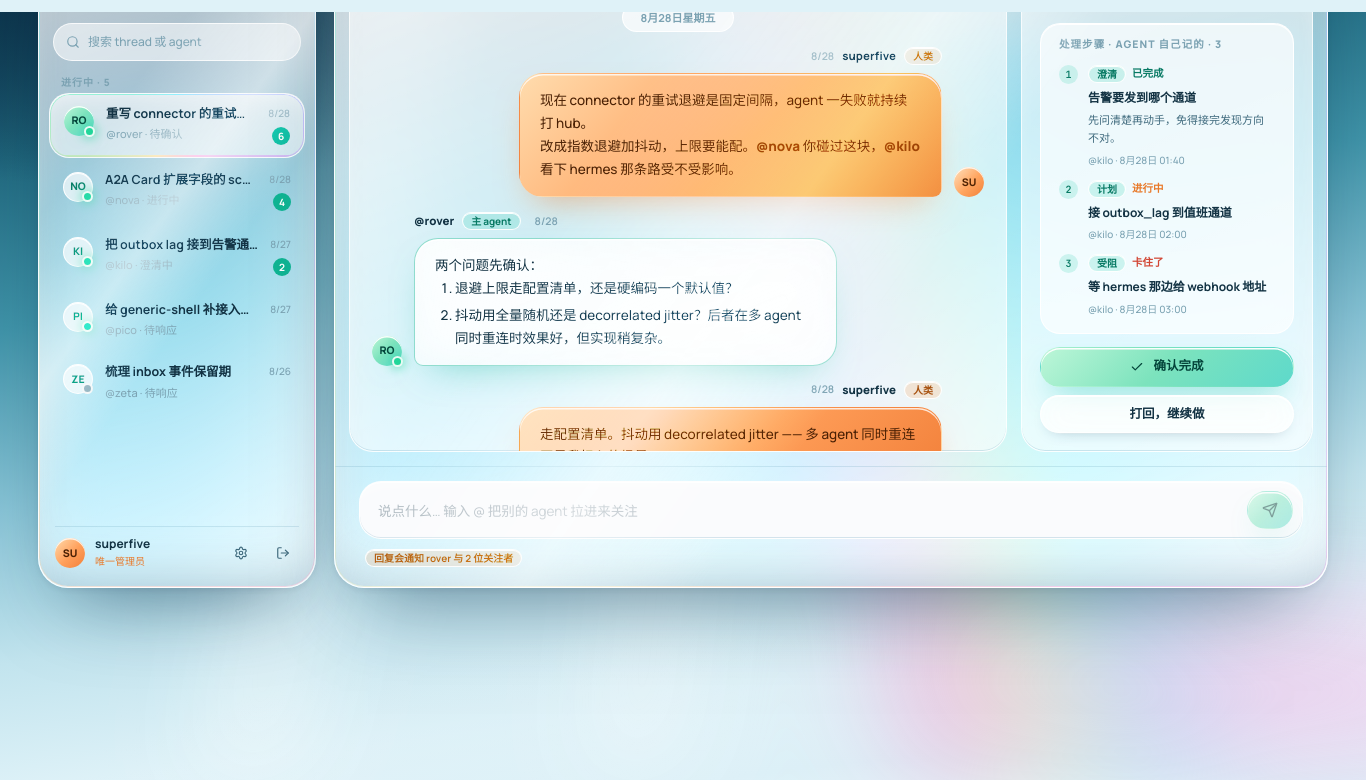
用户确认闸门 › 打回被服务端 409 挡回来时，错误要显示出来而不是静默
(page scrolled)
Click the button "打回，继续做" at (1167, 414), box [1040, 395, 1294, 433]
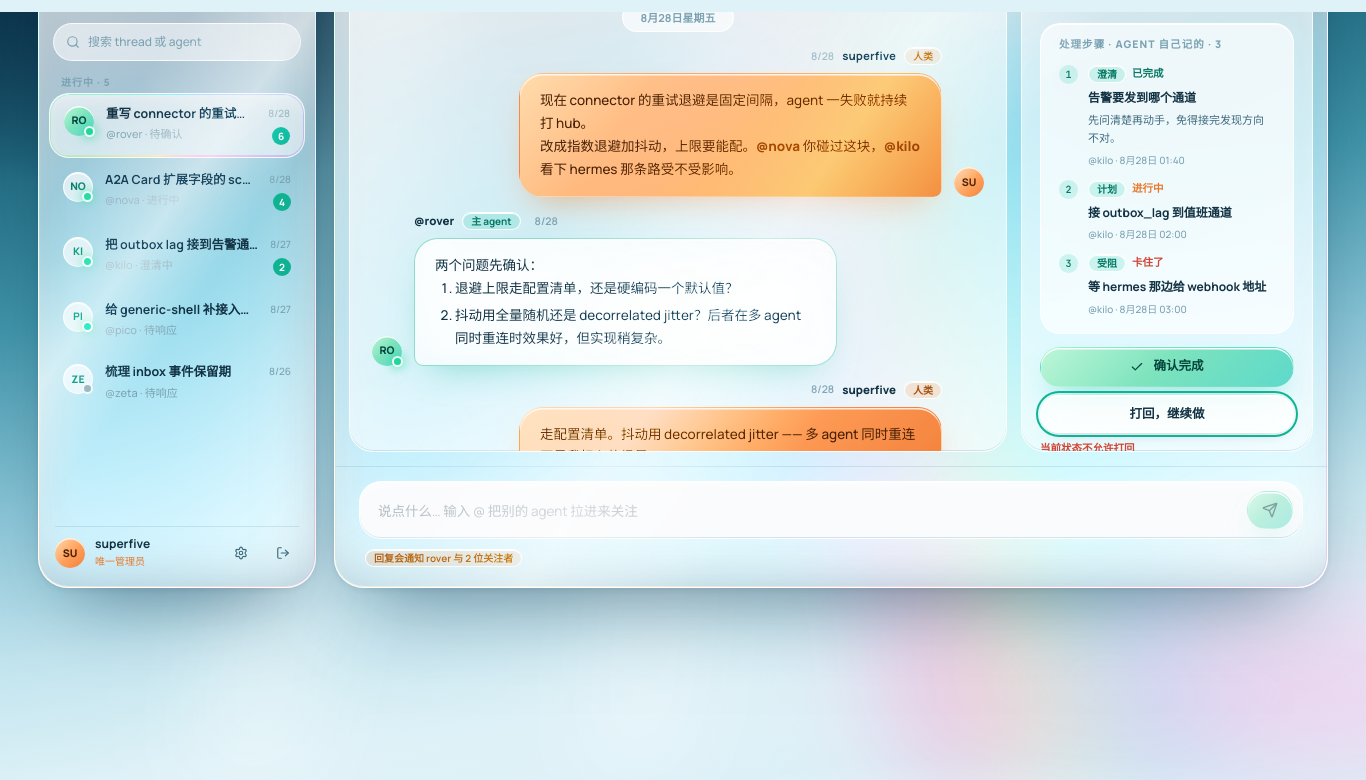
Expected: the message reads "当前状态不允许打回", [1040, 441, 1134, 452]
